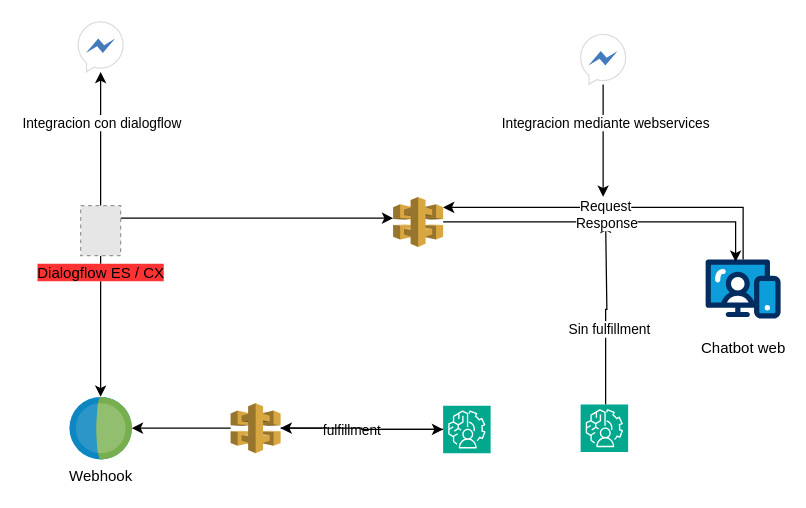
This 806x508 diagram has some shape labels left out. Grey dashed boxes stand in for pictures. Each missing label, with the centre of its shape:
url: the point at 255,427
Web services / dialogflow: the point at 417,221
